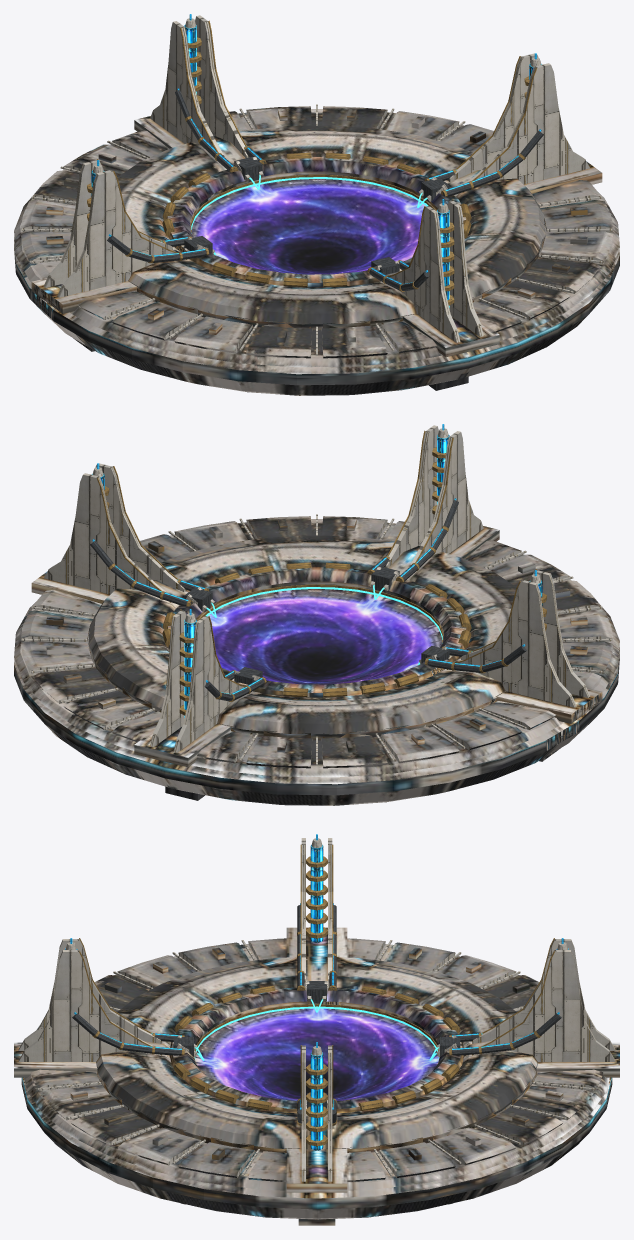
Rendered from authority-nexus.glb.
3 views of the same model, one above another, from view 1: azimuth 30°, elevation 25°; view 2: azimuth 150°, elevation 25°; view 3: azimuth 270°, elevation 25° (orthographic). The views are drawn at different scales.
Parts seen in each view (by area): view 1: structure / Reference armor and port architecture, wormhole / Violet wormhole energy — independent surface, stabilizer-1 / Ivory titanium panel armor, stabilizer-3 / Ivory titanium panel armor, stabilizer-2 / Ivory titanium panel armor, structure / Ventral reference armor and radiators, stabilizer-4 / Ivory titanium panel armor, structure / Ivory titanium panel armor, structure / Brushed brass fittings, stabilizer-1 / Graphite structure, stabilizer-3 / Graphite structure, stabilizer-2 / Graphite structure (+8 smaller); view 2: structure / Reference armor and port architecture, wormhole / Violet wormhole energy — independent surface, stabilizer-1 / Ivory titanium panel armor, stabilizer-3 / Ivory titanium panel armor, stabilizer-4 / Ivory titanium panel armor, structure / Ventral reference armor and radiators, stabilizer-2 / Ivory titanium panel armor, structure / Ivory titanium panel armor, structure / Brushed brass fittings, stabilizer-1 / Graphite structure, stabilizer-3 / Graphite structure, stabilizer-4 / Graphite structure (+8 smaller); view 3: structure / Reference armor and port architecture, wormhole / Violet wormhole energy — independent surface, stabilizer-2 / Ivory titanium panel armor, stabilizer-4 / Ivory titanium panel armor, structure / Ventral reference armor and radiators, structure / Brushed brass fittings, structure / Ivory titanium panel armor, stabilizer-3 / Ivory titanium panel armor, stabilizer-1 / Ivory titanium panel armor, stabilizer-3 / Machined brass containment collars, stabilizer-2 / Graphite structure, stabilizer-4 / Graphite structure (+5 smaller).
Boxes of the visible parts, left/top/right/bottom form: structure / Reference armor and port architecture: left=14, top=106, right=619, bottom=385; wormhole / Violet wormhole energy — independent surface: left=191, top=179, right=426, bottom=274; stabilizer-1 / Ivory titanium panel armor: left=419, top=53, right=589, bottom=201; stabilizer-3 / Ivory titanium panel armor: left=43, top=160, right=214, bottom=297; stabilizer-2 / Ivory titanium panel armor: left=150, top=15, right=263, bottom=180; structure / Ventral reference armor and radiators: left=31, top=280, right=589, bottom=395; stabilizer-4 / Ivory titanium panel armor: left=373, top=200, right=483, bottom=342; structure / Ivory titanium panel armor: left=21, top=104, right=612, bottom=357; structure / Brushed brass fittings: left=162, top=152, right=471, bottom=287; stabilizer-1 / Graphite structure: left=421, top=130, right=543, bottom=202; stabilizer-3 / Graphite structure: left=107, top=234, right=212, bottom=262; stabilizer-2 / Graphite structure: left=175, top=90, right=266, bottom=182; structure / Reference armor and port architecture: left=14, top=516, right=619, bottom=795; wormhole / Violet wormhole energy — independent surface: left=207, top=589, right=442, bottom=684; stabilizer-1 / Ivory titanium panel armor: left=44, top=463, right=214, bottom=611; stabilizer-3 / Ivory titanium panel armor: left=419, top=570, right=590, bottom=707; stabilizer-4 / Ivory titanium panel armor: left=370, top=425, right=483, bottom=590; structure / Ventral reference armor and radiators: left=44, top=690, right=602, bottom=805; stabilizer-2 / Ivory titanium panel armor: left=150, top=610, right=260, bottom=752; structure / Ivory titanium panel armor: left=21, top=514, right=612, bottom=767; structure / Brushed brass fittings: left=162, top=562, right=471, bottom=697; stabilizer-1 / Graphite structure: left=90, top=540, right=212, bottom=612; stabilizer-3 / Graphite structure: left=421, top=644, right=526, bottom=672; stabilizer-4 / Graphite structure: left=368, top=500, right=458, bottom=592; structure / Reference armor and port architecture: left=14, top=927, right=619, bottom=1209; wormhole / Violet wormhole energy — independent surface: left=195, top=1008, right=438, bottom=1100; stabilizer-2 / Ivory titanium panel armor: left=436, top=939, right=615, bottom=1061; stabilizer-4 / Ivory titanium panel armor: left=18, top=939, right=197, bottom=1061; structure / Ventral reference armor and radiators: left=45, top=1107, right=588, bottom=1225; structure / Brushed brass fittings: left=173, top=985, right=460, bottom=1110; structure / Ivory titanium panel armor: left=37, top=940, right=596, bottom=1177; stabilizer-3 / Ivory titanium panel armor: left=301, top=838, right=332, bottom=1001; stabilizer-1 / Ivory titanium panel armor: left=301, top=1045, right=332, bottom=1181; stabilizer-3 / Machined brass containment collars: left=297, top=856, right=336, bottom=990; stabilizer-2 / Graphite structure: left=440, top=1013, right=561, bottom=1056; stabilizer-4 / Graphite structure: left=72, top=1013, right=193, bottom=1056.
Bounding box in the file's own units: 19.8 × 6.34 × 19.8.
Materials: 9 (8 with a texture image).
